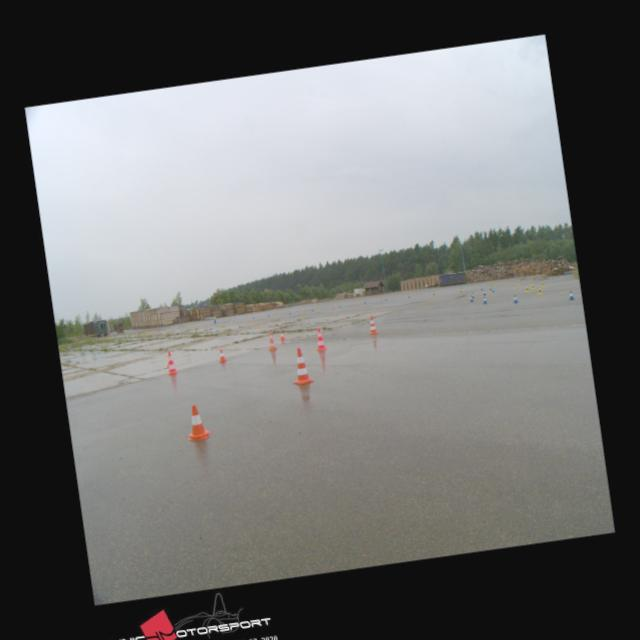blue_cone: (568, 290, 575, 300), (512, 294, 518, 303), (482, 296, 488, 304), (469, 295, 474, 302), (482, 290, 487, 296), (491, 287, 495, 292), (479, 286, 484, 290), (472, 292, 474, 298), (489, 286, 492, 290)
large_orange_cone: (288, 346, 314, 384), (165, 351, 178, 374), (313, 327, 326, 349), (366, 314, 378, 335), (266, 331, 276, 350)
orange_cone: (183, 402, 211, 440), (218, 348, 226, 362), (279, 330, 286, 340)
yellow_cone: (536, 287, 542, 295), (524, 286, 530, 293), (531, 284, 535, 290), (540, 282, 544, 288), (528, 280, 532, 286), (492, 282, 496, 288), (516, 280, 520, 285)
